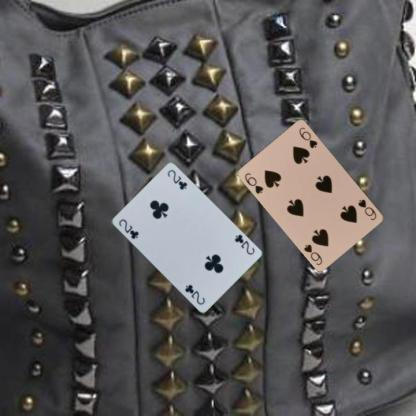2c: (116, 216, 140, 240), (232, 232, 255, 256)
6s: (242, 170, 265, 196), (355, 196, 378, 221)
